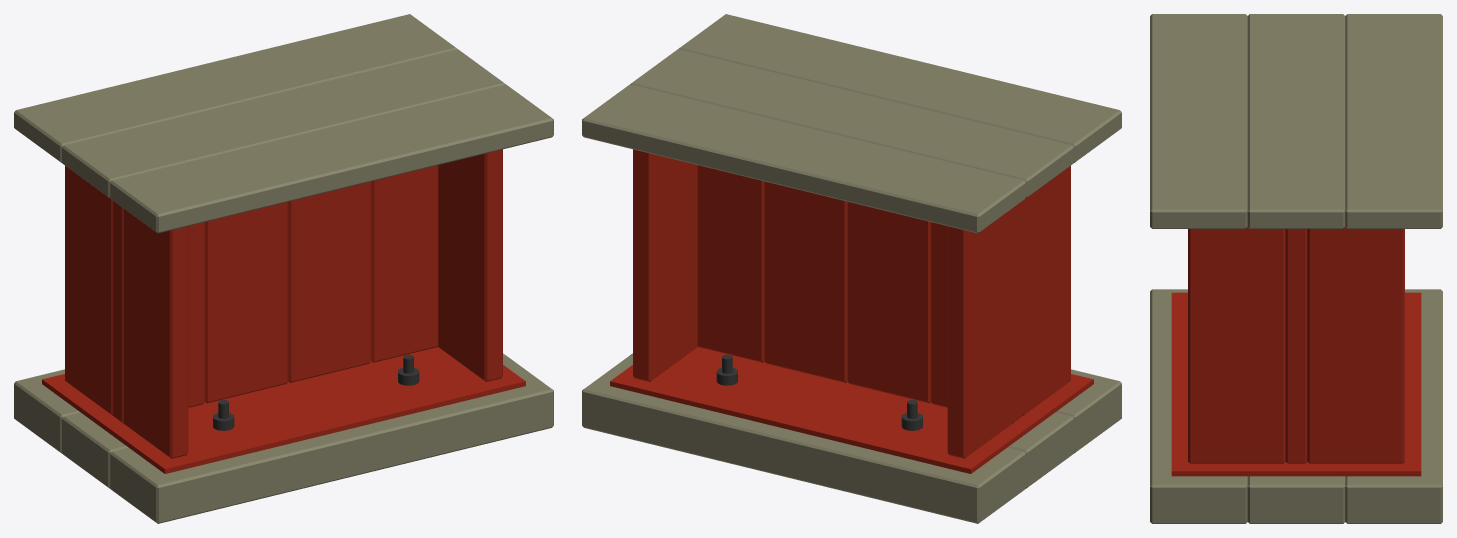
File: step.glb
The picture shows the model from 3 angles, left to right: view 1: azimuth 30°, elevation 25°; view 2: azimuth 150°, elevation 25°; view 3: azimuth 270°, elevation 25°; orthographic projection.
Visible parts, largest first — view 1: base2.003, base1.003, base2.002, base2.001, base1.005, beam1.003, beam1.002, beam2.002, beam3.002, beam1.004, beam2.001, beam1.001 (+2 smaller); view 2: base2.001, base1.001, base2.002, base2.003, base1.005, beam1.003, beam1.002, beam2.001, beam3.001, beam1.004, beam2.002, beam1.001 (+2 smaller); view 3: beam3.001, beam3.002, base2.002, base2.001, base2.003, base1.005, base1.001, base1.003, beam1.004, base1.002.
Boxes of the visible parts, left/top/right/bottom form: base2.003: left=110, top=84, right=553, bottom=233; base1.003: left=110, top=355, right=553, bottom=523; base2.002: left=62, top=49, right=505, bottom=197; base2.001: left=14, top=14, right=457, bottom=162; base1.005: left=42, top=347, right=525, bottom=473; beam1.003: left=288, top=181, right=371, bottom=382; beam1.002: left=205, top=202, right=288, bottom=403; beam2.002: left=124, top=209, right=188, bottom=458; beam3.002: left=438, top=149, right=502, bottom=381; beam1.004: left=371, top=165, right=438, bottom=362; beam2.001: left=65, top=166, right=113, bottom=415; beam1.001: left=113, top=201, right=204, bottom=423; base2.001: left=582, top=84, right=1025, bottom=233; base1.001: left=582, top=355, right=1025, bottom=523; base2.002: left=630, top=49, right=1073, bottom=197; base2.003: left=678, top=14, right=1121, bottom=162; base1.005: left=610, top=347, right=1093, bottom=473; beam1.003: left=764, top=181, right=847, bottom=382; beam1.002: left=847, top=202, right=930, bottom=403; beam2.001: left=947, top=209, right=1011, bottom=458; beam3.001: left=633, top=149, right=697, bottom=381; beam1.004: left=697, top=165, right=764, bottom=362; beam2.002: left=1022, top=166, right=1070, bottom=415; beam1.001: left=931, top=201, right=1022, bottom=423; beam3.001: left=1307, top=227, right=1404, bottom=463; beam3.002: left=1188, top=227, right=1285, bottom=463; base2.002: left=1247, top=14, right=1345, bottom=228; base2.001: left=1345, top=14, right=1442, bottom=228; base2.003: left=1150, top=14, right=1247, bottom=228; base1.005: left=1171, top=292, right=1421, bottom=476; base1.001: left=1345, top=289, right=1442, bottom=523; base1.003: left=1150, top=289, right=1247, bottom=523; beam1.004: left=1285, top=229, right=1307, bottom=463; base1.002: left=1247, top=476, right=1345, bottom=523.
Size of the model in its own units: 0.43 by 0.32 by 0.27.
